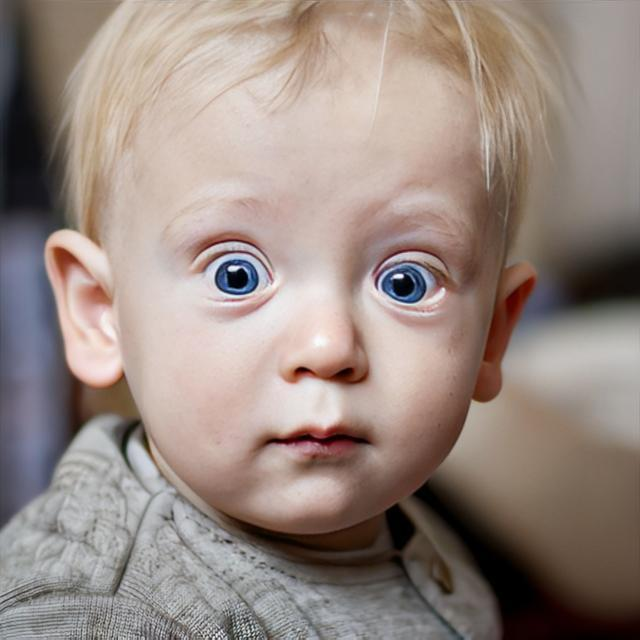fear: (126, 30, 509, 536)
